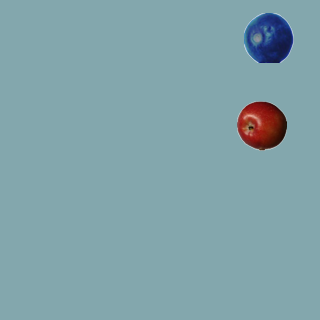Apple Braeburn: (236, 100, 286, 150)
Huckleberry: (243, 12, 293, 62)
